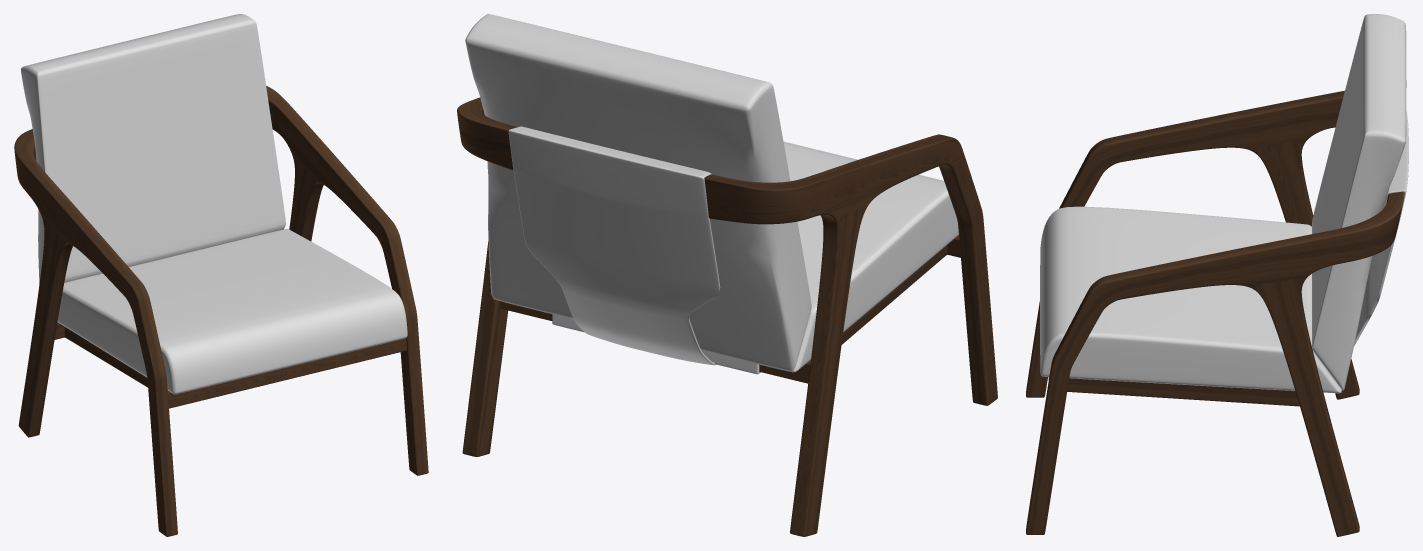
File: SBH_Bruno.glb
3 renders of one model, left to right at view 1: azimuth 30°, elevation 25°; view 2: azimuth 150°, elevation 25°; view 3: azimuth 270°, elevation 25°, orthographic. The views are drawn at different scales.
Visible parts, largest first — view 1: Bruno; view 2: Bruno; view 3: Bruno.
Part boxes in pixels (box(x1,y1,x2,y2)): Bruno: box(14, 14, 428, 536); Bruno: box(457, 14, 997, 536); Bruno: box(1026, 14, 1408, 536).
Bounding box in the file's own units: 0.6195 × 0.7894 × 0.6961.
Materials: 2 (1 with a texture image).
